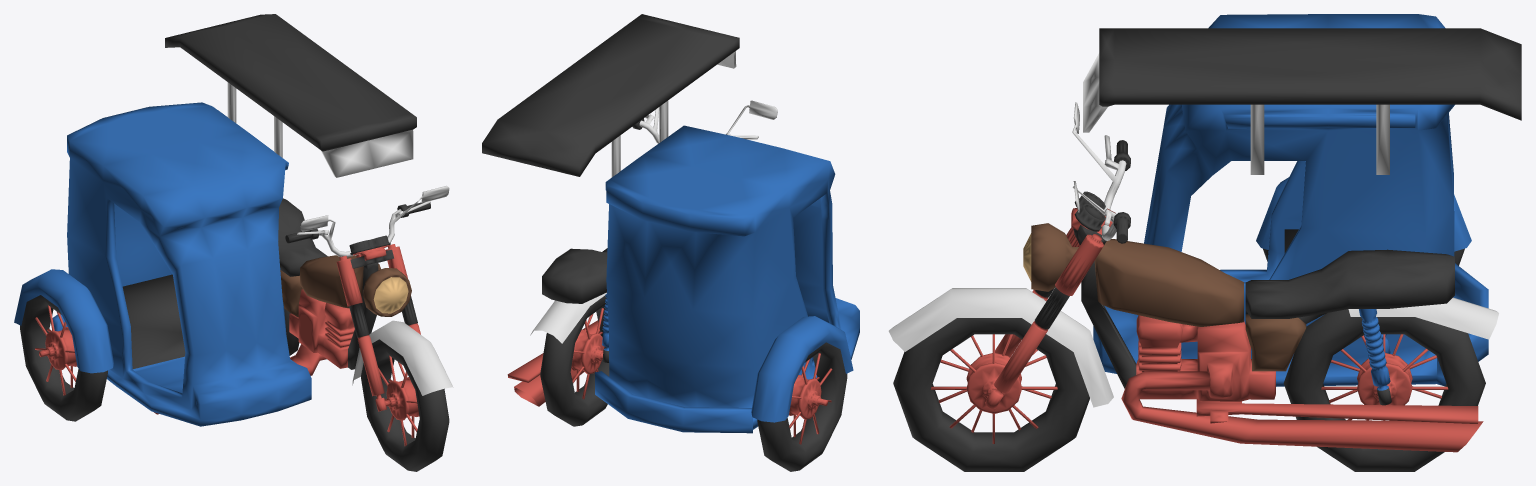
File: tricycle_b.glb
3 renders of one model, left to right at view 1: azimuth 30°, elevation 25°; view 2: azimuth 150°, elevation 25°; view 3: azimuth 270°, elevation 25°, orthographic. The views are drawn at different scales.
Visible parts, largest first — view 1: tricycle_b; view 2: tricycle_b; view 3: tricycle_b.
Part boxes in pixels (x1,y1,x2,y2): tricycle_b: (14,14,453,471); tricycle_b: (482,14,859,471); tricycle_b: (888,14,1521,471).
Bounding box in the file's own units: 1.79 × 1.73 × 2.4.
